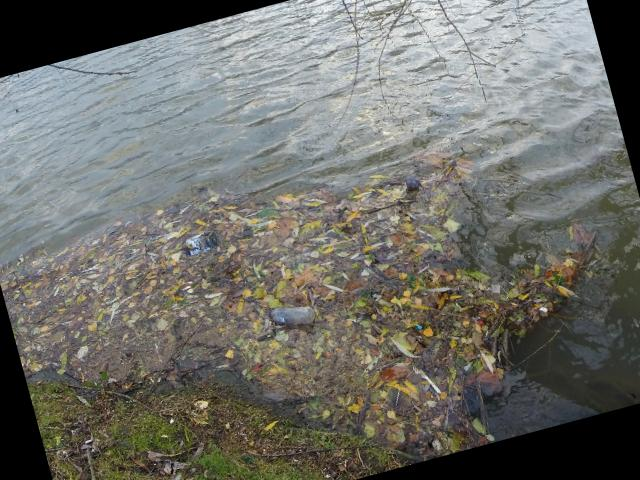plastic: (270, 306, 316, 324)
